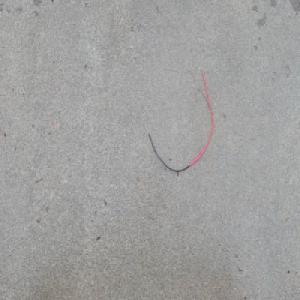Wire: (141, 61, 214, 172)
